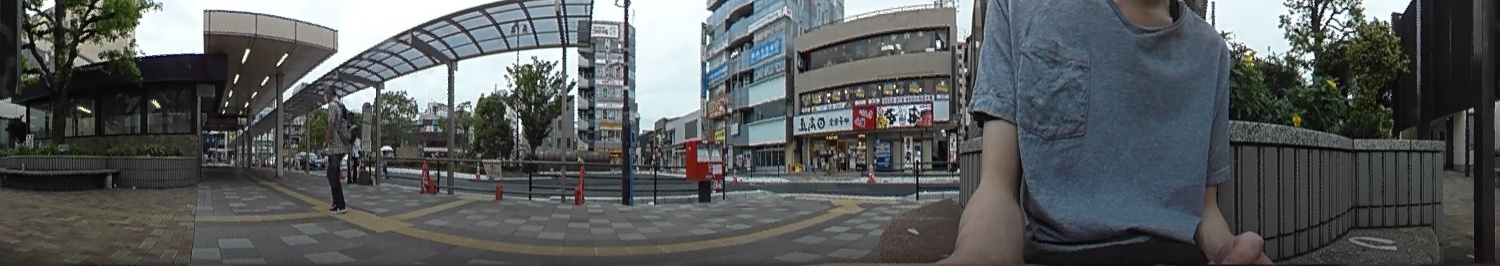difficult_person: (349, 131, 362, 180)
person: (320, 82, 356, 206)
